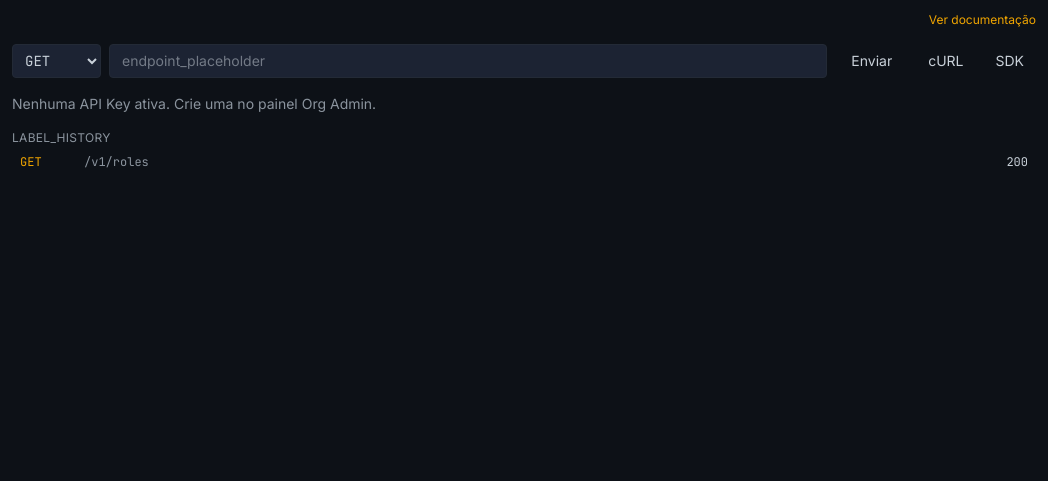
Test: PlaygroundPanel — documentação inline › painel de docs aparece para endpoint conhecido
Select "POST" in the dropdown with test id "method-select". click: [56, 61]
box: [12,44,101,78]
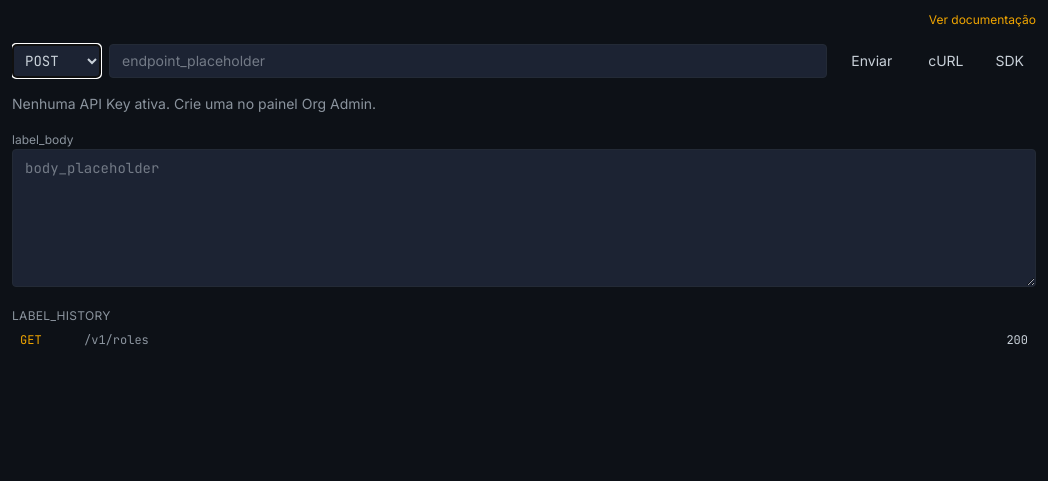
Type "/v1/check" into the field with test id "endpoint-input". click: [468, 61]
box: [109,44,827,78]
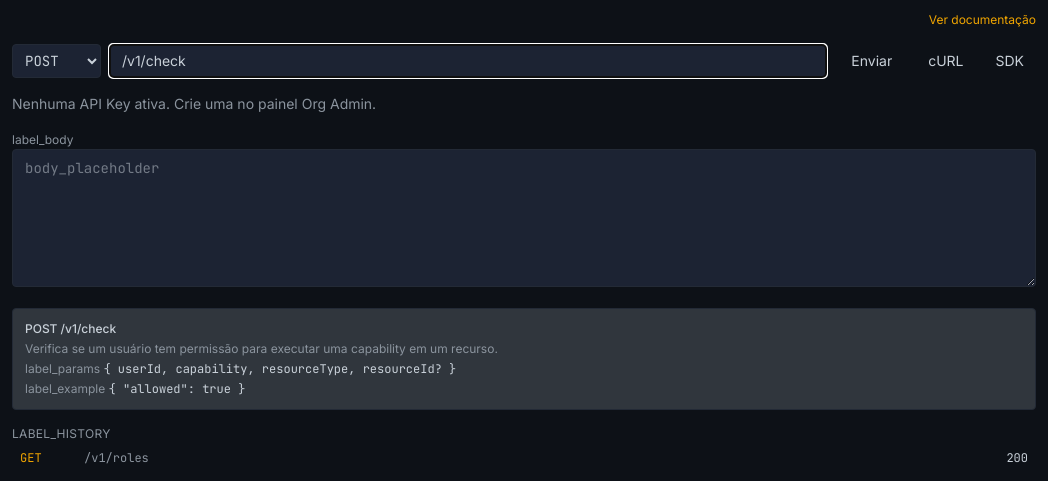
Expected: the element with test id "docs-panel" is shown, [12,308,1036,410]
